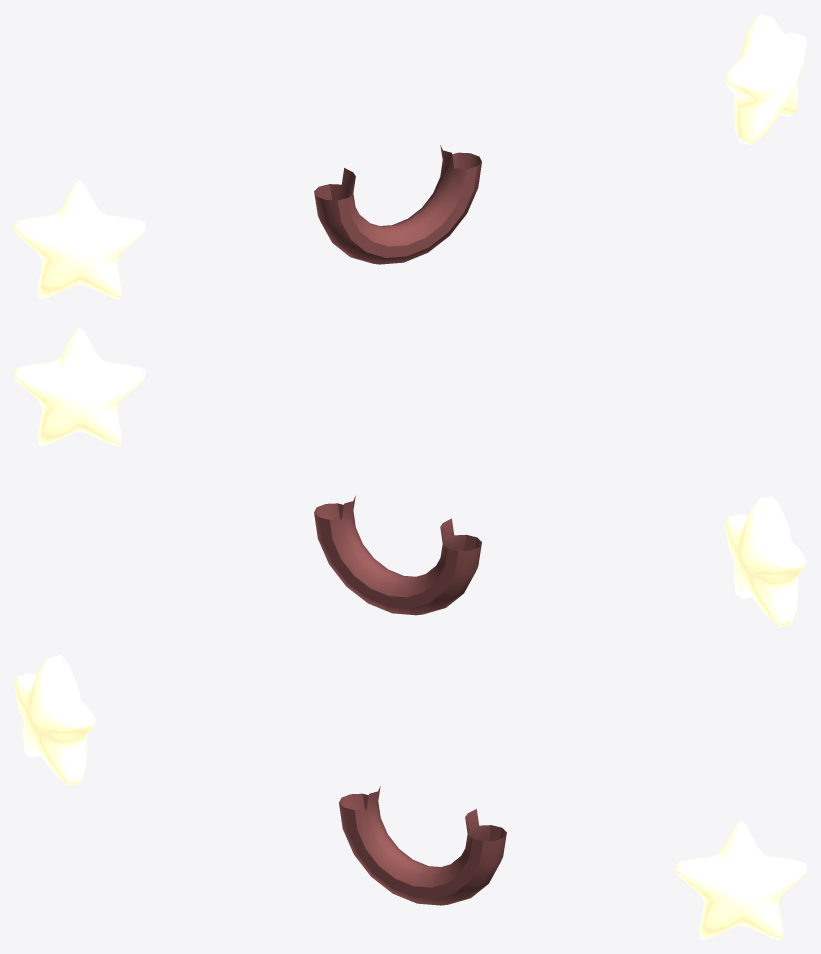
Rendered from Face_Stars.fbx.
3 views of the same model, one above another, from view 1: azimuth 30°, elevation 25°; view 2: azimuth 150°, elevation 25°; view 3: azimuth 330°, elevation 25° (orthographic).
Visible parts, largest first — view 1: Mouth, Cheek_Star.001, Cheek_Star; view 2: Mouth, Cheek_Star, Cheek_Star.001; view 3: Mouth, Cheek_Star, Cheek_Star.001.
Part boxes in pixels (x1,y1,x2,y2): Mouth: (314, 145, 481, 264); Cheek_Star.001: (14, 180, 145, 298); Cheek_Star: (725, 14, 806, 144); Mouth: (314, 496, 481, 615); Cheek_Star: (14, 327, 145, 445); Cheek_Star.001: (725, 496, 806, 626); Mouth: (339, 786, 506, 905); Cheek_Star: (675, 821, 806, 939); Cheek_Star.001: (14, 655, 95, 785).
Size of the model in its own units: 55.29 by 12.08 by 6.63.
